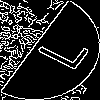L: (25, 25, 91, 73)
